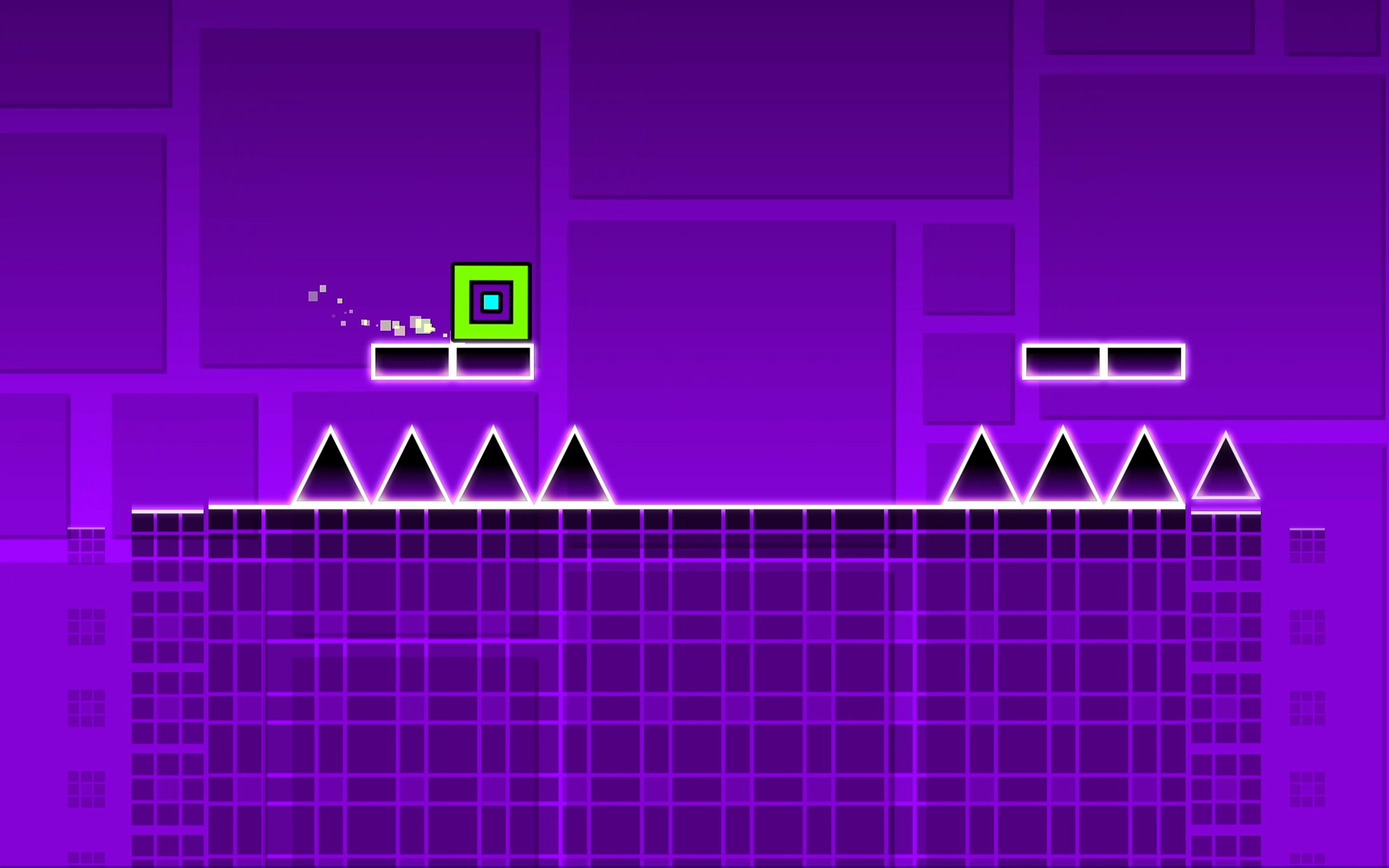Block2: (129, 501, 1272, 867)
Block3: (373, 344, 450, 379), (455, 344, 533, 378), (1023, 345, 1100, 379), (1107, 344, 1184, 378)
Player: (451, 263, 529, 342)
Spike: (459, 427, 531, 503), (376, 427, 447, 503), (540, 428, 610, 503), (1110, 428, 1180, 502), (947, 428, 1016, 503), (296, 428, 365, 502), (1028, 428, 1097, 502), (1192, 432, 1259, 501)
